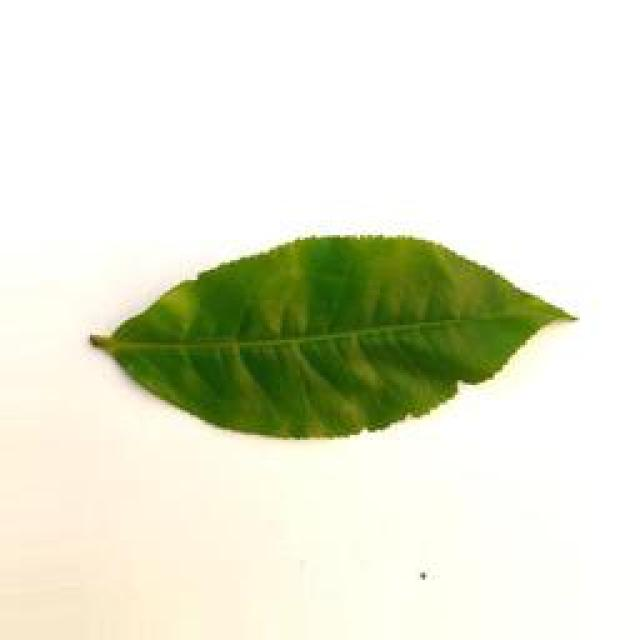Healthy: (85, 224, 595, 447)
